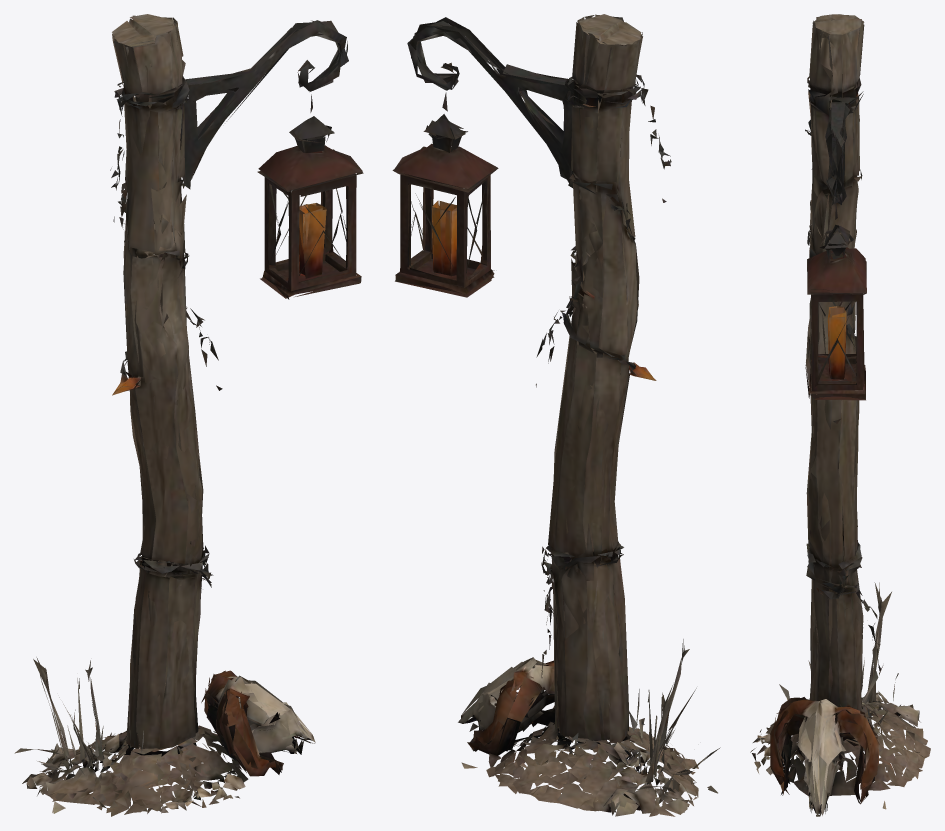
Rendered from goblin_lantern.glb.
3 views of the same model, side by side, from view 1: azimuth 30°, elevation 25°; view 2: azimuth 150°, elevation 25°; view 3: azimuth 270°, elevation 25° (orthographic). The views are drawn at different scales.
Parts seen in each view (by area): view 1: goblin_lantern; view 2: goblin_lantern; view 3: goblin_lantern.
Part boxes in pixels (left/top/right/bottom): goblin_lantern: left=14, top=14, right=363, bottom=816; goblin_lantern: left=392, top=14, right=720, bottom=816; goblin_lantern: left=750, top=14, right=930, bottom=816.
Size of the model in its own units: 0.991 by 2.33 by 0.5218.
Materials: 1 (1 with a texture image).
